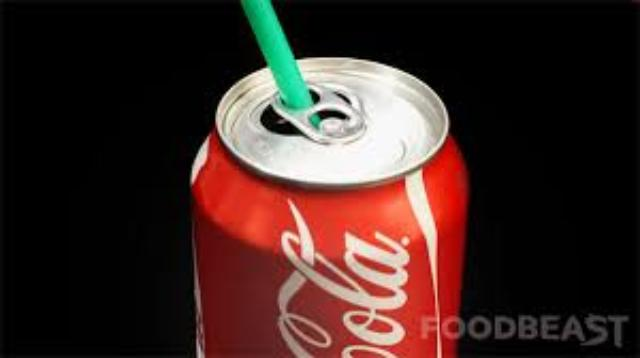metal: (190, 55, 463, 354)
